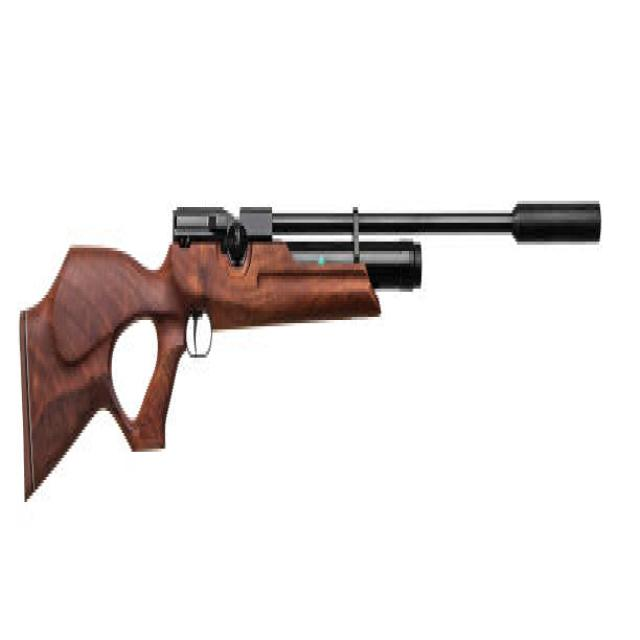rifle: (18, 168, 612, 510)
